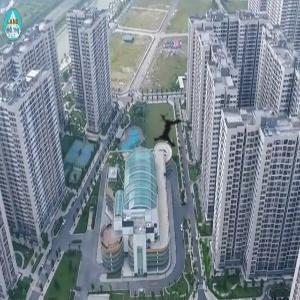drone: (132, 92, 208, 168)
